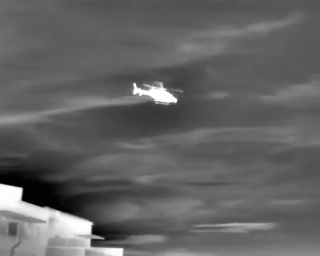HELICOPTER: (129, 73, 188, 113)
